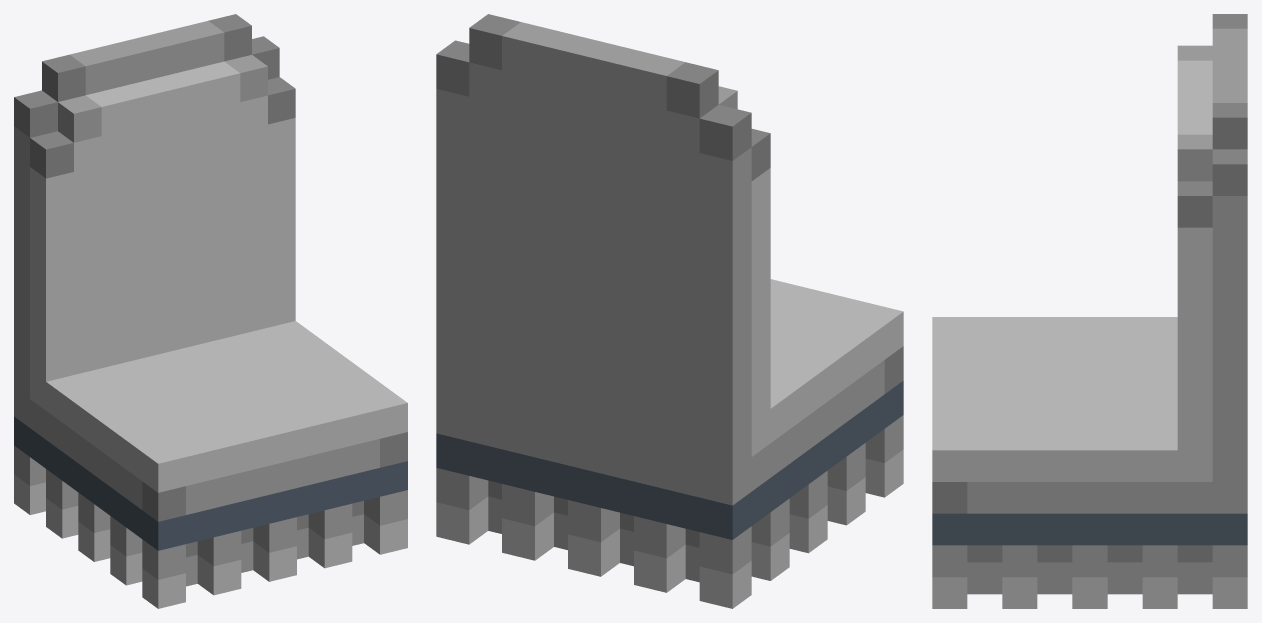
File: Interior_Furniture-59.obj
3 renders of one model, left to right at view 1: azimuth 30°, elevation 25°; view 2: azimuth 150°, elevation 25°; view 3: azimuth 270°, elevation 25°, orthographic. The views are drawn at different scales.
Size of the model in its own units: 0.9 by 1.5 by 0.9.
Materials: 1 (1 with a texture image).
